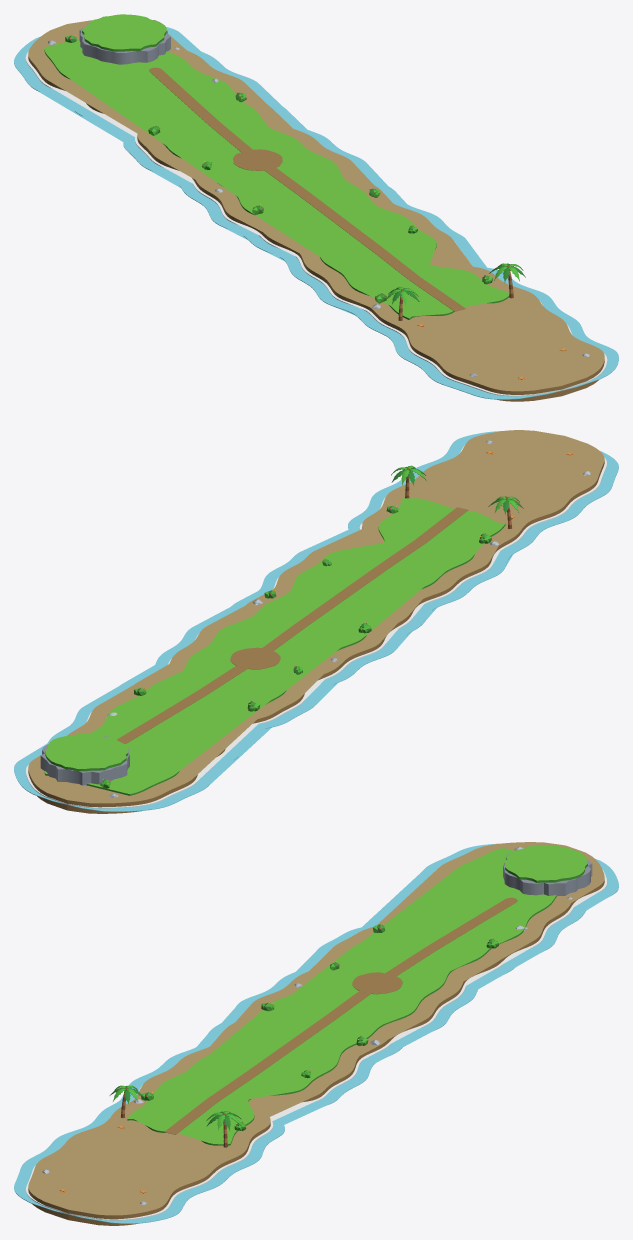
Rendered from home_isle.fbx.
3 renders of one model, top to bottom at view 1: azimuth 30°, elevation 25°; view 2: azimuth 150°, elevation 25°; view 3: azimuth 330°, elevation 25°, orthographic.
Visible parts, largest first — view 1: home_isle; view 2: home_isle; view 3: home_isle.
Boxes of the visible parts, <box> form: home_isle: <box>14,14,618,401</box>; home_isle: <box>14,430,618,813</box>; home_isle: <box>14,842,618,1225</box>.
Bounding box in the file's own units: 9.21 × 2.12 × 45.
